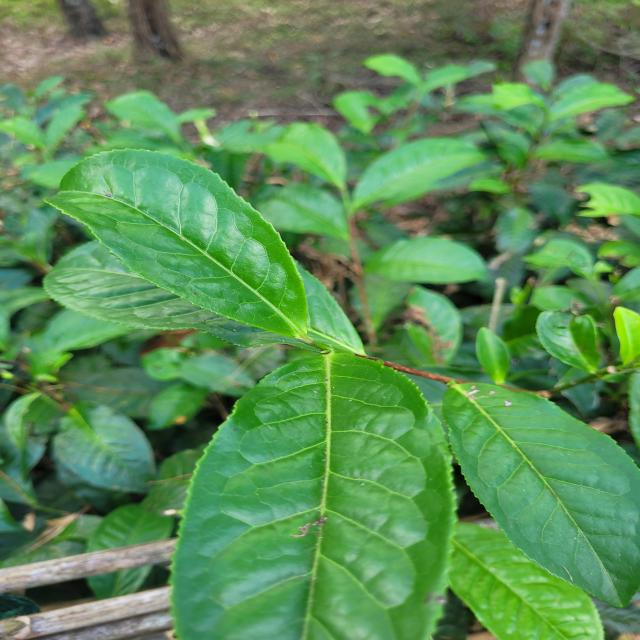Category D(7+ days, Not for Tea): (164, 329, 478, 640)
